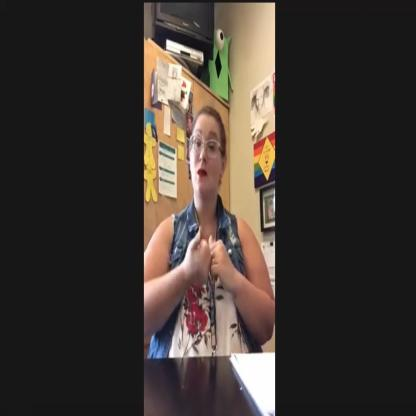HowAreYou: (173, 200, 238, 300)
